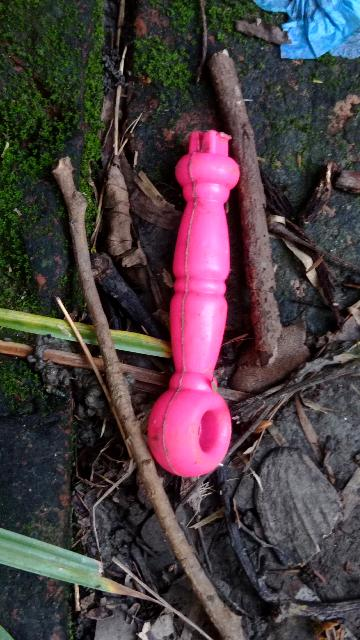hardplastic: (146, 128, 251, 480)
